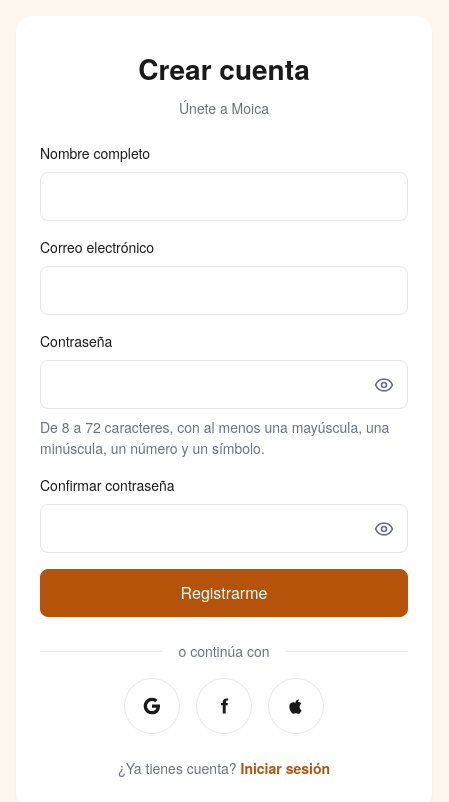
Test: pantalla de registro › crea la cuenta y lleva a iniciar sesión sin autenticar
The image size is (449, 802).
Type "Erving Miranda" into the field labelled "Nombre completo" at (224, 196), box [40,172,408,221]
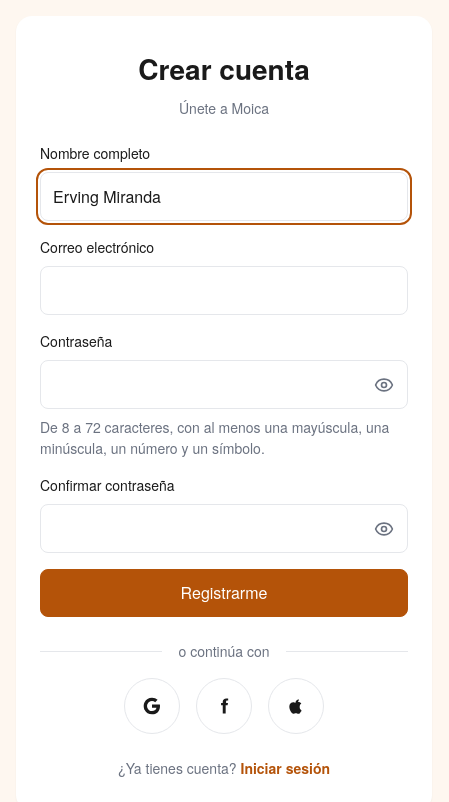
Type "erving@moica.test" into the field labelled "Correo electrónico" at (224, 290), box [40,266,408,315]
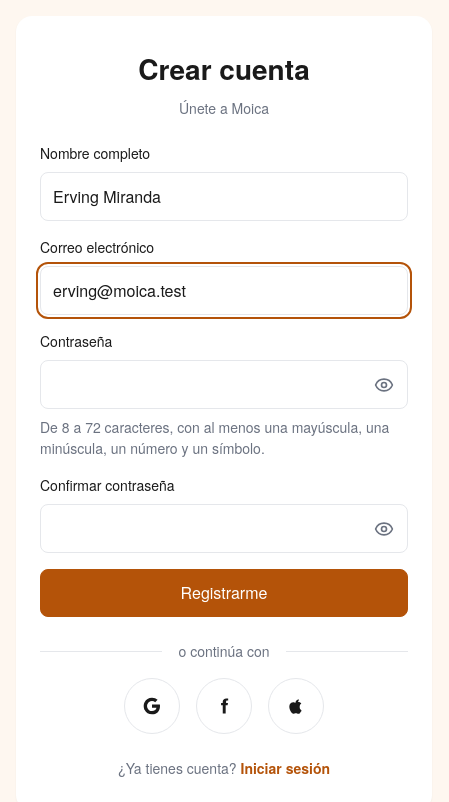
Type "Moica2026$segura" into the password field labelled "Contraseña" at (224, 384), box [40,360,408,409]
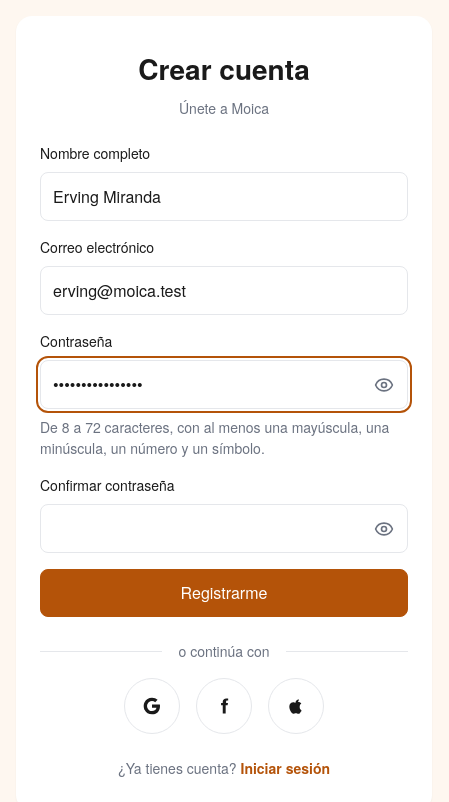
Type "Moica2026$segura" into the password field labelled "Confirmar contraseña" at (224, 528), box [40,504,408,553]
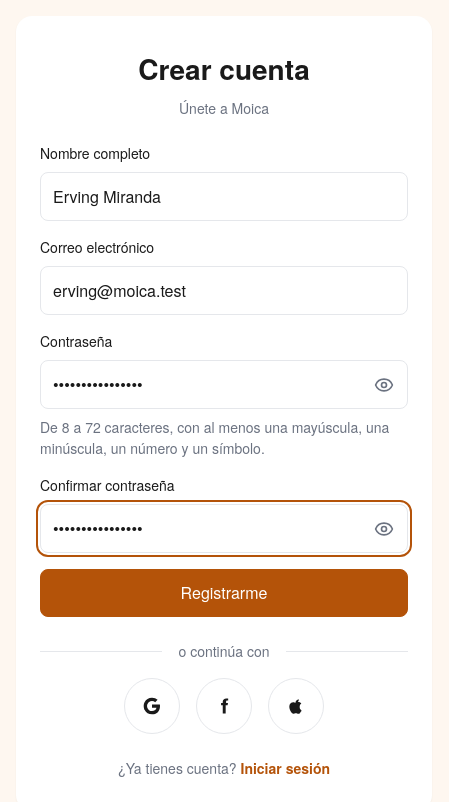
Click the button "Registrarme" at (224, 593), box [40,569,408,617]
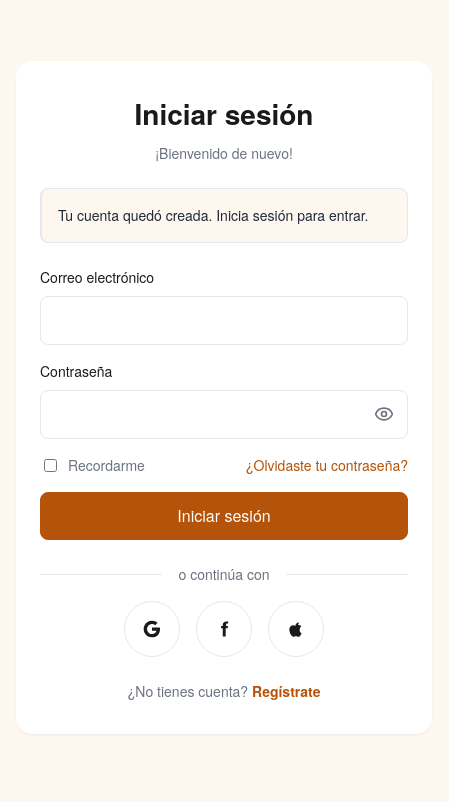
Expected: the text "Tu cuenta quedó creada. Inicia sesión para entrar." is shown, [40,188,408,242]
